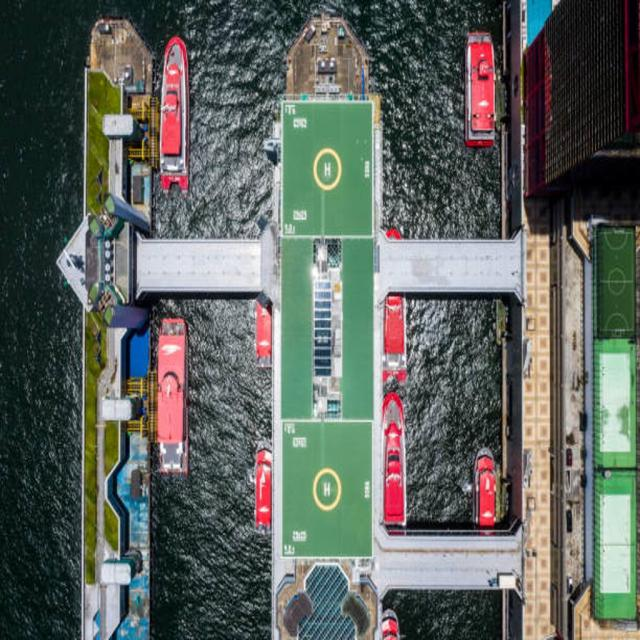helipad: (310, 467, 342, 511), (312, 146, 342, 190)
